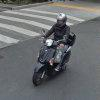Motorcycle: (29, 19, 75, 91)
